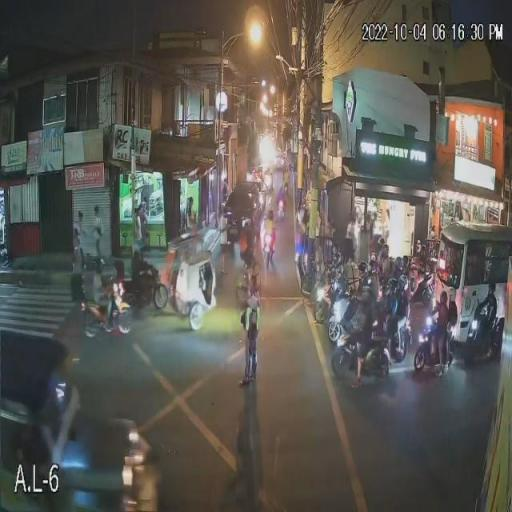helmet: (385, 274, 395, 285), (488, 284, 497, 296), (356, 260, 366, 270), (406, 264, 416, 274)
motorcycle: (331, 314, 393, 382), (79, 280, 133, 338), (375, 280, 412, 362), (324, 280, 366, 345), (409, 304, 442, 373), (122, 261, 168, 310), (467, 318, 503, 364), (306, 276, 336, 326)
rider: (350, 278, 376, 386), (382, 274, 406, 353), (478, 282, 501, 359), (106, 257, 126, 330), (236, 218, 256, 265), (259, 214, 276, 264)
